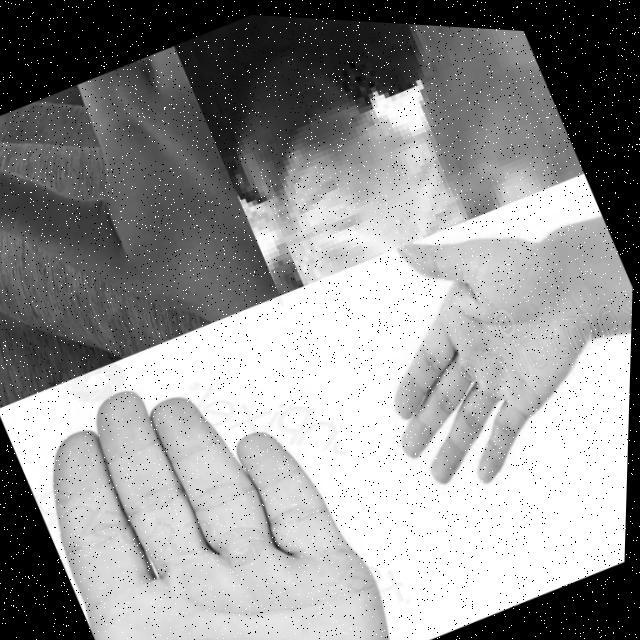no-gloves: (5, 315, 417, 640), (0, 35, 286, 421), (324, 172, 636, 510), (344, 17, 588, 234)
